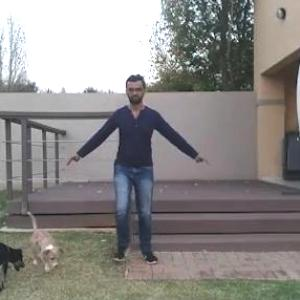land: (69, 86, 217, 254)
